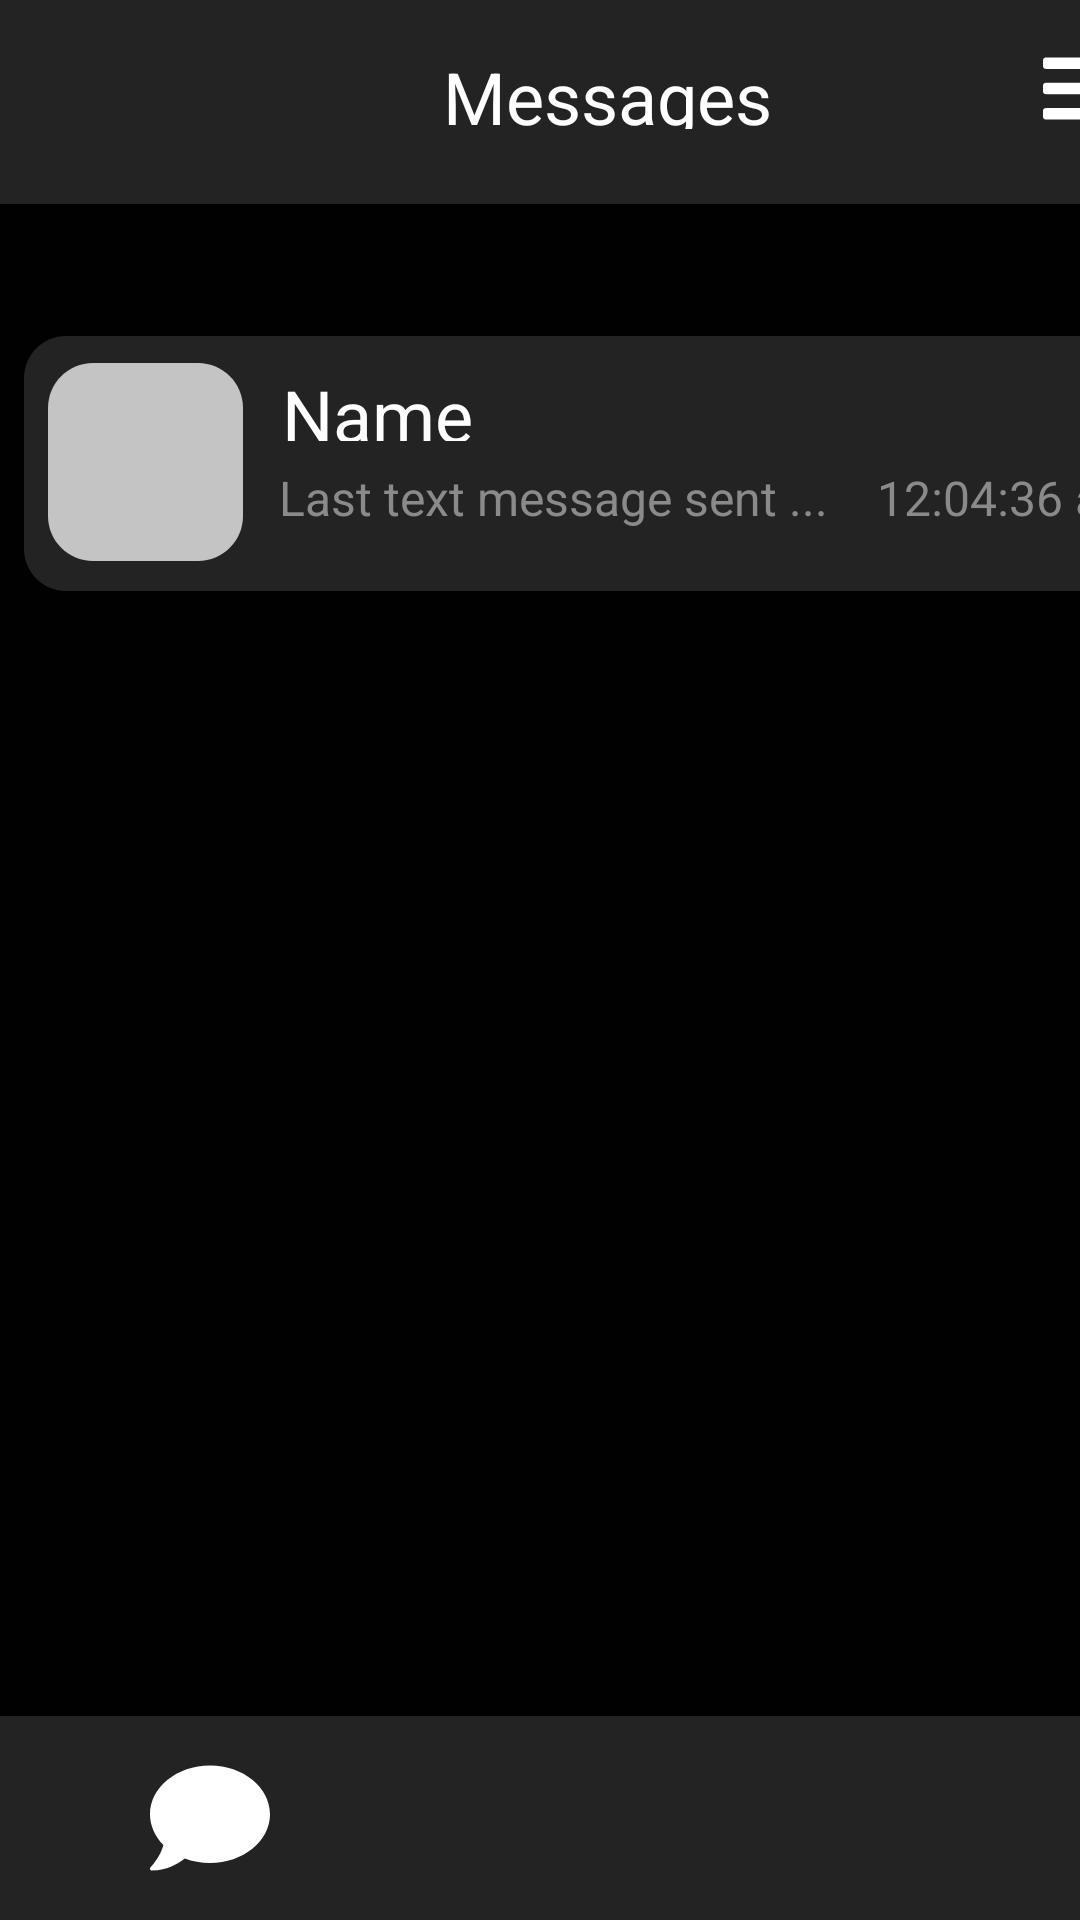

Named icons in this screenshot (1080 x 1920) and their bounding boxes, box(x1, y1, x2, y2):
comment: box(150, 1765, 270, 1871)
